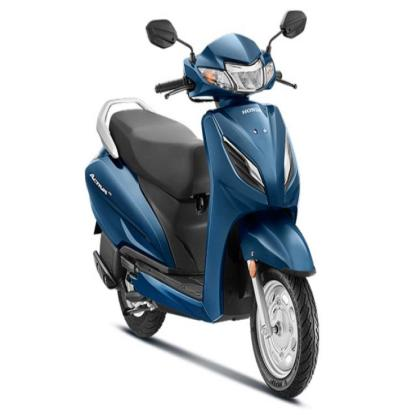bike: (87, 8, 320, 395)
